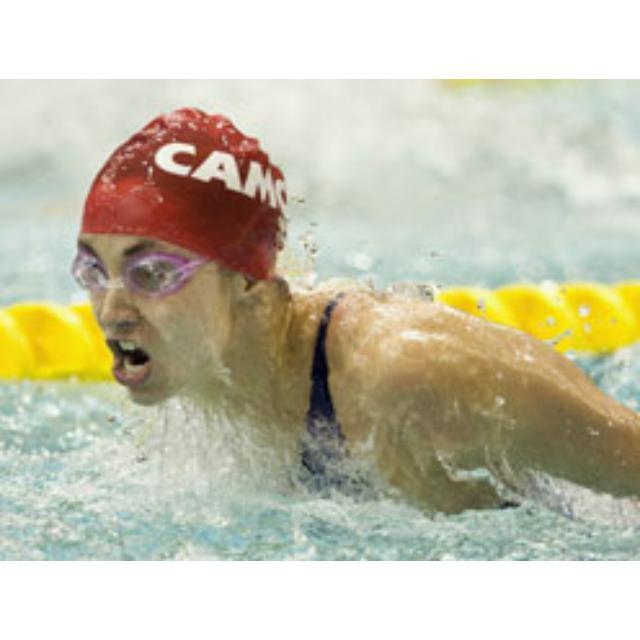human: (73, 102, 638, 520)
